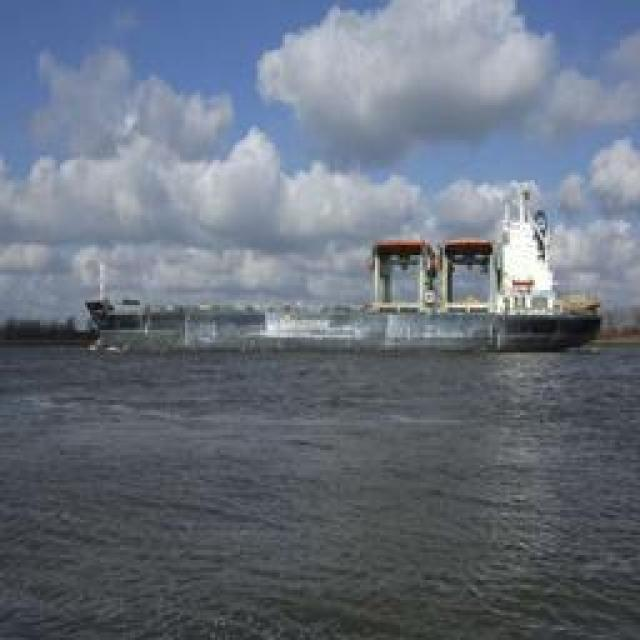CIV_Ship: (268, 188, 604, 358)
